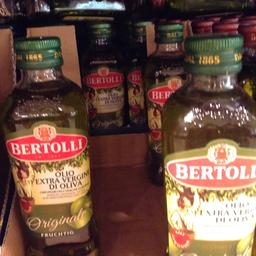oil: (1, 36, 96, 254), (162, 33, 252, 254), (84, 22, 126, 128)
